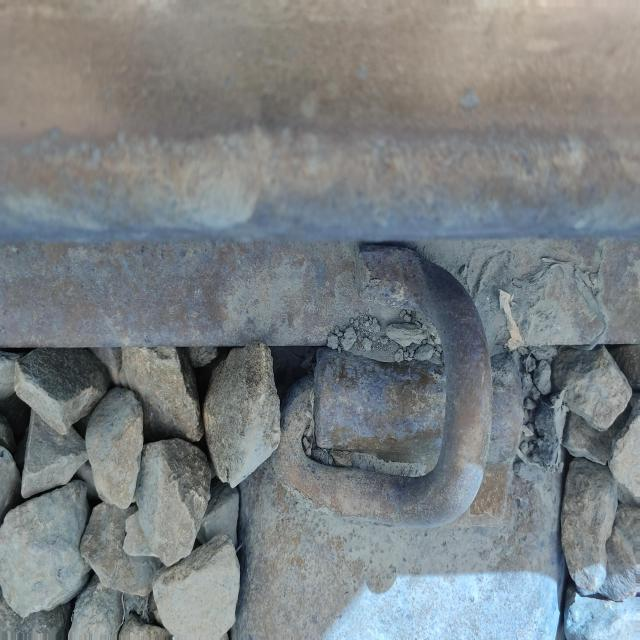Good Fasteners: (268, 244, 523, 528)
